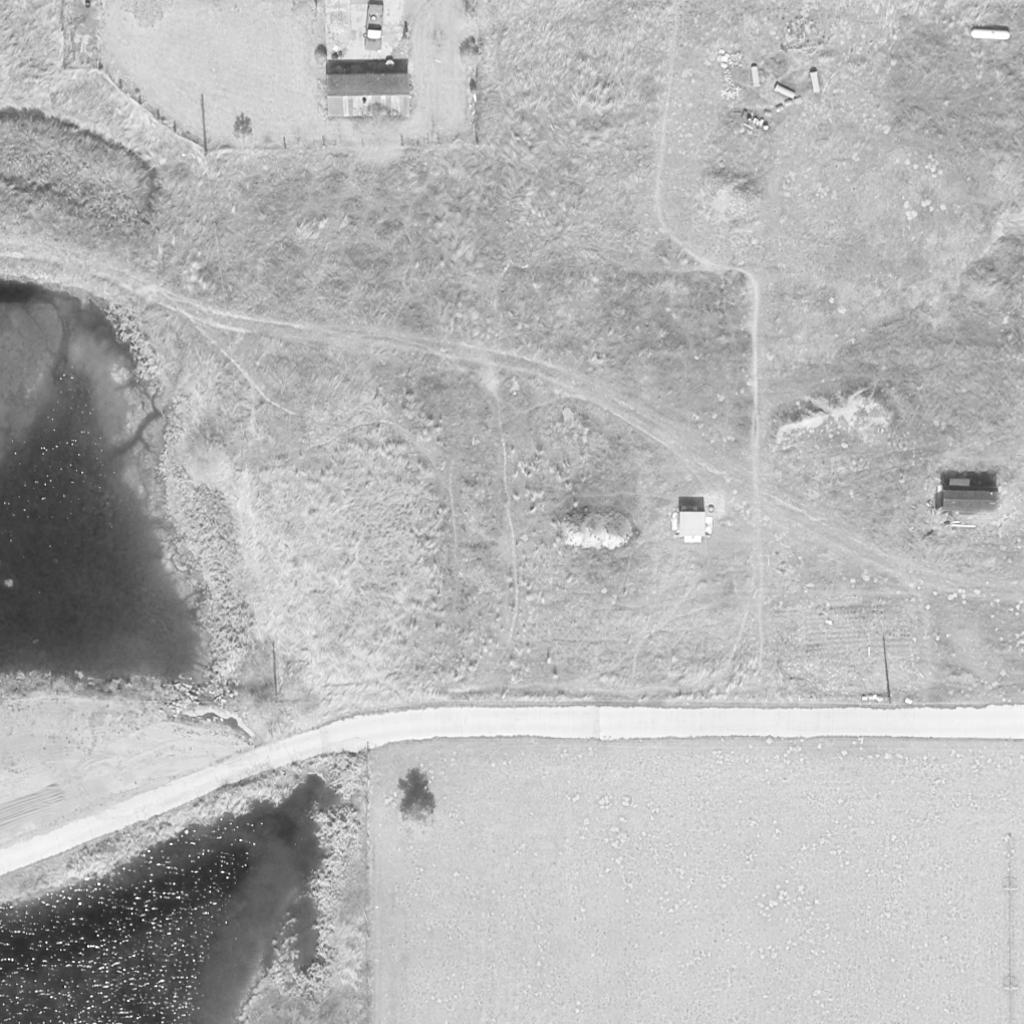vehicle: (365, 2, 385, 54)
